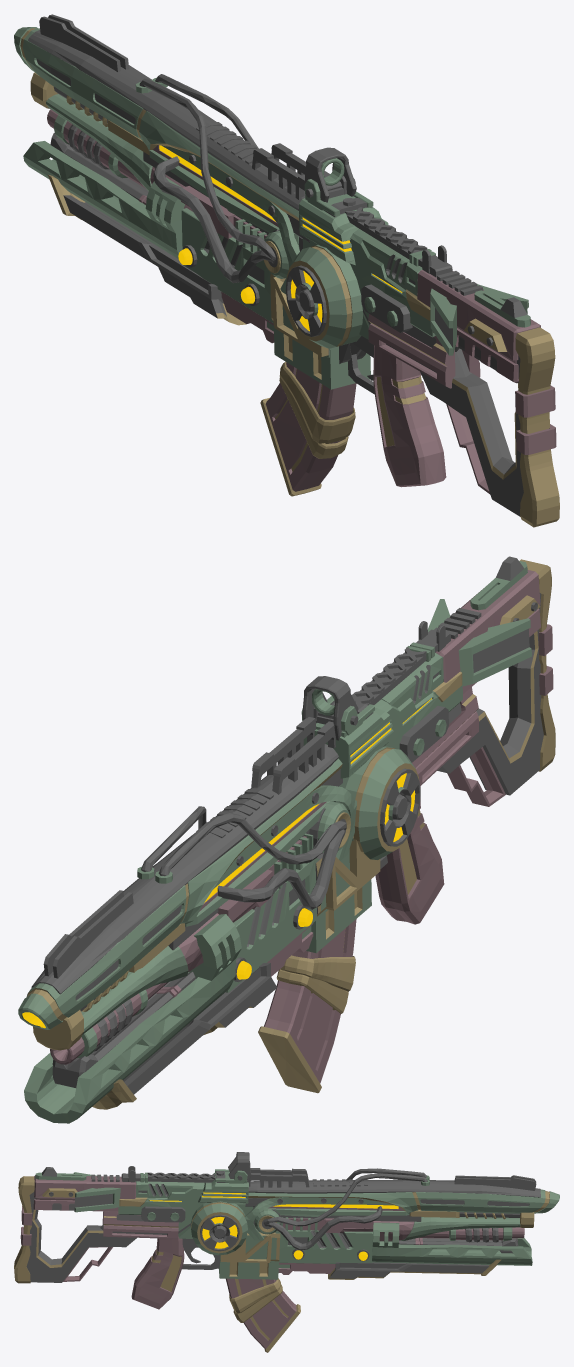
Rendered from remake_365.glb.
3 renders of one model, top to bottom at view 1: azimuth 30°, elevation 25°; view 2: azimuth 150°, elevation 25°; view 3: azimuth 270°, elevation 25°, orthographic. The views are drawn at different scales.
Parts seen in each view (by area): view 1: remake_365; view 2: remake_365; view 3: remake_365.
Part boxes in pixels (bbox=[...]): remake_365: bbox=[14, 14, 559, 527]; remake_365: bbox=[18, 556, 555, 1123]; remake_365: bbox=[14, 1152, 559, 1352].
Size of the model in its own units: 0.1821 by 0.573 by 1.45.
